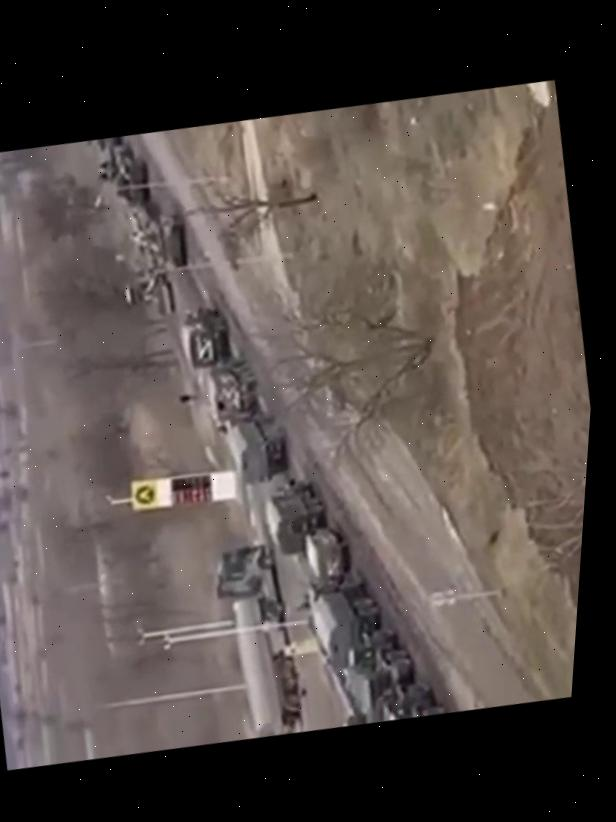car: (300, 522, 353, 581)
rszo: (332, 621, 425, 726)
tank: (136, 206, 201, 277), (106, 149, 161, 210), (80, 134, 126, 162)
truck: (198, 537, 315, 745), (301, 571, 390, 674), (257, 471, 336, 560), (218, 403, 295, 487), (199, 353, 266, 429), (174, 301, 234, 372)
